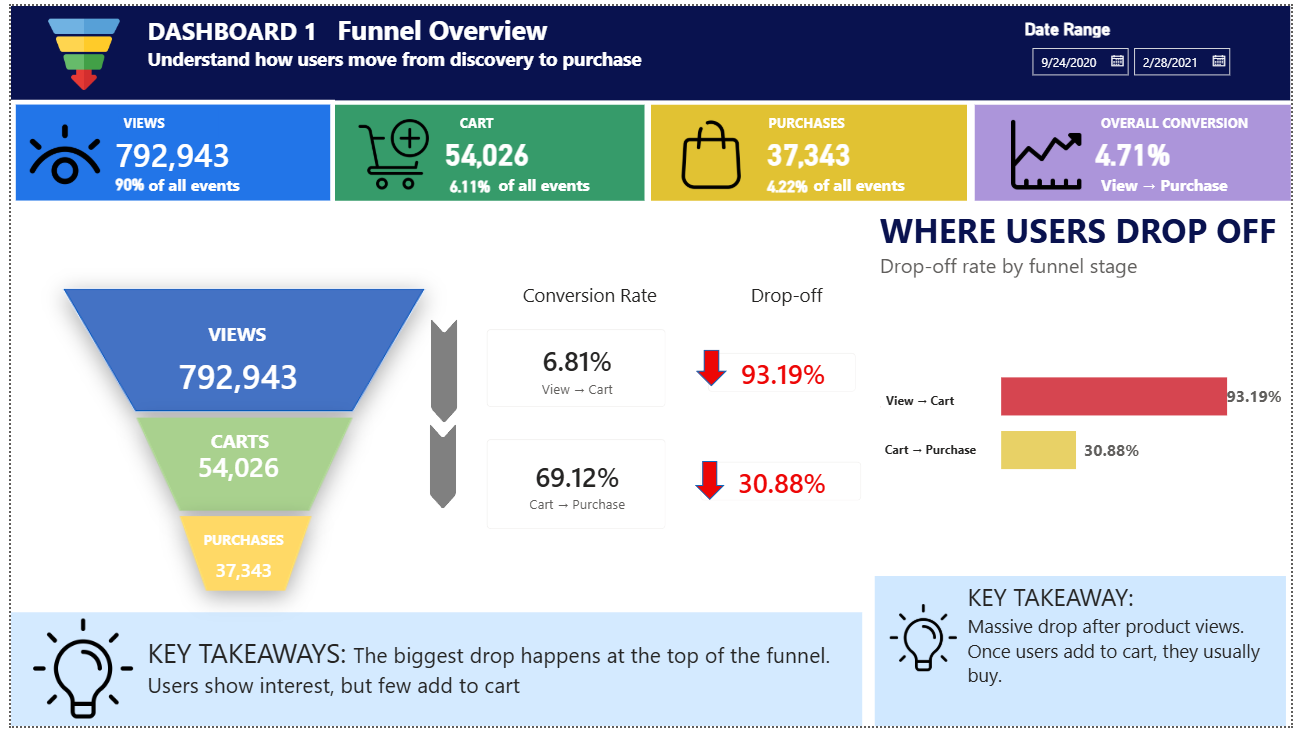

Layout of this report page (visuals, bound fields, positions):
{"tool":"powerbi","page":{"name":"Dashboard 1","canvas":[1280,720],"ordinal":0},"visuals":[{"type":"textbox","box":[0,0,1279.1,94.2],"z":0},{"type":"group","id":"g1","title":"Group 2","box":[0,189.5,458.6,481.2],"z":0,"group":"g2"},{"type":"image","box":[0,189.5,458.6,481.2],"z":0,"group":"g1"},{"type":"image","box":[0,190.6,458.6,480.1],"z":0,"group":"g4"},{"type":"cardVisual","title":"VIEWS","fields":{"Data":["dim_customer.TotalViews"]},"box":[107.3,316.1,244,89.5],"z":0,"group":"g7"},{"type":"card","fields":{"Values":["dim_customer.Total_Carts"]},"box":[317,99,316,96],"z":1000},{"type":"group","id":"g2","title":"Group 3","box":[0,189.5,867.7,481.2],"z":1000,"group":"g5"},{"type":"textbox","box":[168.4,308.9,114.7,42],"z":1000,"group":"g6"},{"type":"textbox","box":[192.8,316.1,73.8,33.7],"z":1000,"group":"g7"},{"type":"cardVisual","fields":{"Data":["dim_customer.Drop_View_Cart"]},"box":[680.2,329.1,182.8,73],"z":1000,"group":"g2"},{"type":"group","id":"g3","title":"Group 6","box":[0,94.2,324.1,121.1],"z":2000},{"type":"group","id":"g4","title":"Group 2","box":[0,190.6,458.6,480.1],"z":2000,"group":"g2"},{"type":"shape","box":[689.1,415.7,30.2,29],"z":2000,"group":"g5"},{"type":"textbox","box":[171,416.9,115,42],"z":2000,"group":"g6"},{"type":"textbox","box":[192.8,419.6,73.8,33.7],"z":2000,"group":"g7"},{"type":"cardVisual","title":"VIEWS","fields":{"Data":["dim_customer.TotalViews"]},"box":[106.5,332.7,243.3,72.4],"z":2500,"group":"g6"},{"type":"clusteredBarChart","title":"WHERE USERS DROP OFF","fields":{"Y":["dim_customer.Drop_View_Cart","dim_customer.Drop_Cart_Purchase"]},"box":[864.3,201.4,411.4,358.6],"z":3000},{"type":"cardVisual","fields":{"Data":["dim_customer.Cart_to_Purchase"]},"box":[458.6,415.8,213.8,124.9],"z":3000,"group":"g2"},{"type":"cardVisual","title":"VIEWS","fields":{"Data":["dim_customer.Total_Carts"]},"box":[107.3,419.6,244,89.5],"z":3000,"group":"g7"},{"type":"cardVisual","title":"VIEWS","fields":{"Data":["dim_customer.Total_Carts"]},"box":[121.9,427.9,212.3,64.8],"z":3000,"group":"g6"},{"type":"group","id":"g5","title":"Group 4","box":[0,107,867.7,563.7],"z":4000},{"type":"shape","box":[419.9,311.7,26.3,104.8],"z":4000,"group":"g2"},{"type":"textbox","box":[174.4,515.6,123.2,33.7],"z":4000,"group":"g7"},{"type":"textbox","box":[160,517.9,145,31],"z":4000,"group":"g6"},{"type":"textbox","box":[868.2,411.8,120,62.7],"z":5000},{"type":"shape","box":[418.4,416.5,26.3,85.9],"z":5000,"group":"g2"},{"type":"cardVisual","title":"VIEWS","fields":{"Data":["dim_customer.TotalPurchases"]},"box":[114,515.6,244,89.5],"z":5000,"group":"g7"},{"type":"cardVisual","title":"VIEWS","fields":{"Data":["dim_customer.TotalPurchases"]},"box":[111,532.9,243,60],"z":5000,"group":"g6"},{"type":"group","id":"g6","title":"Group 1","box":[106.5,308.9,247.5,284],"z":5002,"group":"g4"},{"type":"group","id":"g7","title":"Group 1","box":[107.3,316.1,250.7,289],"z":5002,"group":"g1"},{"type":"cardVisual","fields":{"Data":["dim_customer.TotalViews"]},"box":[0,94.2,324.1,106.2],"z":5500,"group":"g8"},{"type":"cardVisual","fields":{"Data":["dim_customer.View_to_Cart"]},"box":[458.6,306.3,213.8,112.3],"z":6000,"group":"g2"},{"type":"textbox","box":[870,362.7,105.5,60.9],"z":6000},{"type":"image","box":[18.8,107,70.6,81.8],"z":6500,"group":"g5"},{"type":"image","box":[347.6,107.1,70.6,81.8],"z":7000},{"type":"cardVisual","fields":{"Data":["dim_customer.Drop_Cart_Purchase"]},"box":[672.5,438.2,195.2,73],"z":7000,"group":"g2"},{"type":"textbox","box":[107.2,102.8,99.8,29.6],"z":8000,"group":"g8"},{"type":"textbox","box":[444,103,100,29],"z":8000},{"type":"shape","box":[684.9,342.8,31,36.5],"z":8000,"group":"g2"},{"type":"group","id":"g8","title":"Group 5","box":[0,94.2,324.1,106.2],"z":8500,"group":"g3"},{"type":"card","fields":{"Values":["dim_customer.Carts %"]},"box":[420,161,78,40],"z":9000},{"type":"card","fields":{"Values":["dim_customer.Views %"]},"box":[80.1,160.9,77.6,39.5],"z":10000,"group":"g3"},{"type":"textbox","box":[482,163,107,53],"z":10000},{"type":"textbox","box":[458.6,271.2,240.2,40.7],"z":10000,"group":"g2"},{"type":"card","fields":{"Values":["dim_customer.TotalPurchases"]},"box":[640,99,316,96],"z":11000},{"type":"textbox","box":[132,162.4,107.4,52.9],"z":11000,"group":"g3"},{"type":"textbox","box":[699.2,271,153.4,40.2],"z":11000,"group":"g2"},{"type":"card","fields":{"Values":["dim_customer.Conversion Rate"]},"box":[964,99,316,96],"z":12000},{"type":"image","box":[665,107,70,82],"z":13000},{"type":"textbox","box":[752,103,100,29],"z":14000},{"type":"textbox","box":[798,163,107,53],"z":15000},{"type":"card","fields":{"Values":["dim_customer.Purchases %"]},"box":[737,161,78,40],"z":16000},{"type":"image","box":[1000,107,70,82],"z":17000},{"type":"textbox","box":[1085,103,171,29],"z":18000},{"type":"textbox","box":[1085,163,150,53],"z":19000},{"type":"textbox","box":[0,605.7,851.4,114.3],"z":20000},{"type":"textbox","box":[864,570,411,150],"z":21000},{"type":"image","box":[12.9,612.9,118.6,100],"z":22000},{"type":"image","box":[878.6,581.4,67.1,101.4],"z":23000},{"type":"image","box":[13.5,7.3,118.6,81.9],"z":25000},{"type":"slicer","title":"Date Range","fields":{"Values":["fact_events.EVENT_TS"]},"box":[1008.8,12.5,256.2,72.5],"z":26000}]}

Visuals, with their boxes in screenshot pixels (x1, y1, x2, y2), scaled from the page's 1280x720 canvas onto the 1302x736 screenshot:
textbox: [0,0,1301,96]
"Group 2" group: [0,194,466,686]
image: [0,194,466,686]
image: [0,195,466,686]
"VIEWS" cardVisual: [109,323,357,415]
card - dim_customer.Total_Carts: [322,101,644,199]
"Group 3" group: [0,194,883,686]
textbox: [171,316,288,359]
textbox: [196,323,271,358]
cardVisual - dim_customer.Drop_View_Cart: [692,336,878,411]
"Group 6" group: [0,96,330,220]
"Group 2" group: [0,195,466,686]
shape: [701,425,732,455]
textbox: [174,426,291,469]
textbox: [196,429,271,463]
"VIEWS" cardVisual: [108,340,356,414]
"WHERE USERS DROP OFF" clusteredBarChart: [879,206,1298,572]
cardVisual - dim_customer.Cart_to_Purchase: [466,425,684,553]
"VIEWS" cardVisual: [109,429,357,520]
"VIEWS" cardVisual: [124,437,340,504]
"Group 4" group: [0,109,883,686]
shape: [427,319,454,426]
textbox: [177,527,303,562]
textbox: [163,529,310,561]
textbox: [883,421,1005,485]
shape: [426,426,452,514]
"VIEWS" cardVisual: [116,527,364,619]
"VIEWS" cardVisual: [113,545,360,606]
"Group 1" group: [108,316,360,606]
"Group 1" group: [109,323,364,619]
cardVisual - dim_customer.TotalViews: [0,96,330,205]
cardVisual - dim_customer.View_to_Cart: [466,313,684,428]
textbox: [885,371,992,433]
image: [19,109,91,193]
image: [354,109,425,193]
cardVisual - dim_customer.Drop_Cart_Purchase: [684,448,883,523]
textbox: [109,105,211,135]
textbox: [452,105,553,135]
shape: [697,350,728,388]
"Group 5" group: [0,96,330,205]
card - dim_customer.Carts %: [427,165,507,205]
card - dim_customer.Views %: [81,164,160,205]
textbox: [490,167,599,221]
textbox: [466,277,711,319]
card - dim_customer.TotalPurchases: [651,101,972,199]
textbox: [134,166,244,220]
textbox: [711,277,867,318]
card - dim_customer.Conversion Rate: [981,101,1301,199]
image: [676,109,748,193]
textbox: [765,105,867,135]
textbox: [812,167,921,221]
card - dim_customer.Purchases %: [750,165,829,205]
image: [1017,109,1088,193]
textbox: [1104,105,1278,135]
textbox: [1104,167,1256,221]
textbox: [0,619,866,735]
textbox: [879,583,1297,735]
image: [13,627,134,729]
image: [894,594,962,698]
image: [14,7,134,91]
"Date Range" slicer: [1026,13,1287,87]
